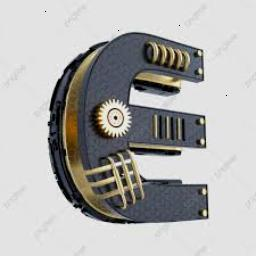e: (46, 30, 220, 234)
